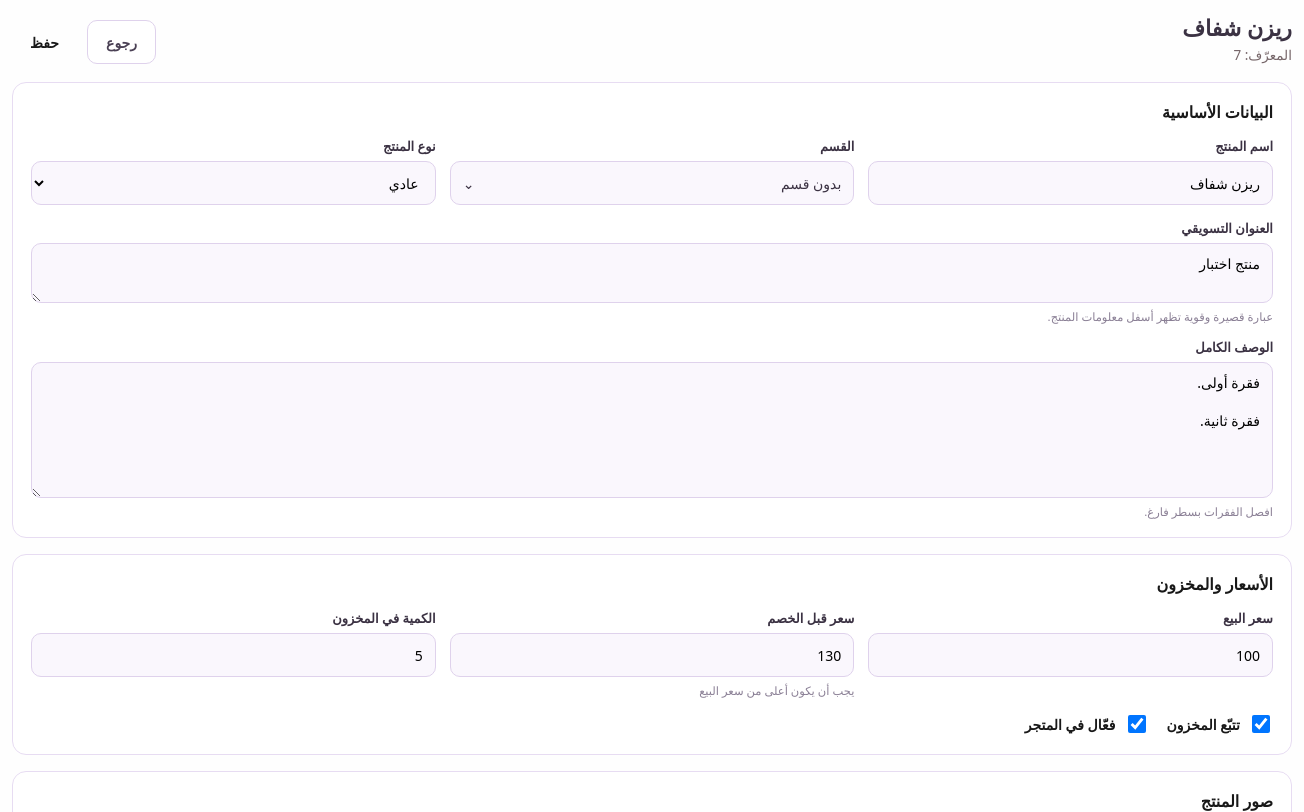
it: admin product routes › loads edit with the real id once and uses deterministic Back
Expected: the text "المعرّف: 7" is shown, x1=1234 y1=46 x2=1292 y2=64
Click the button "رجوع" at (122, 42), box x1=87 y1=20 x2=156 y2=64
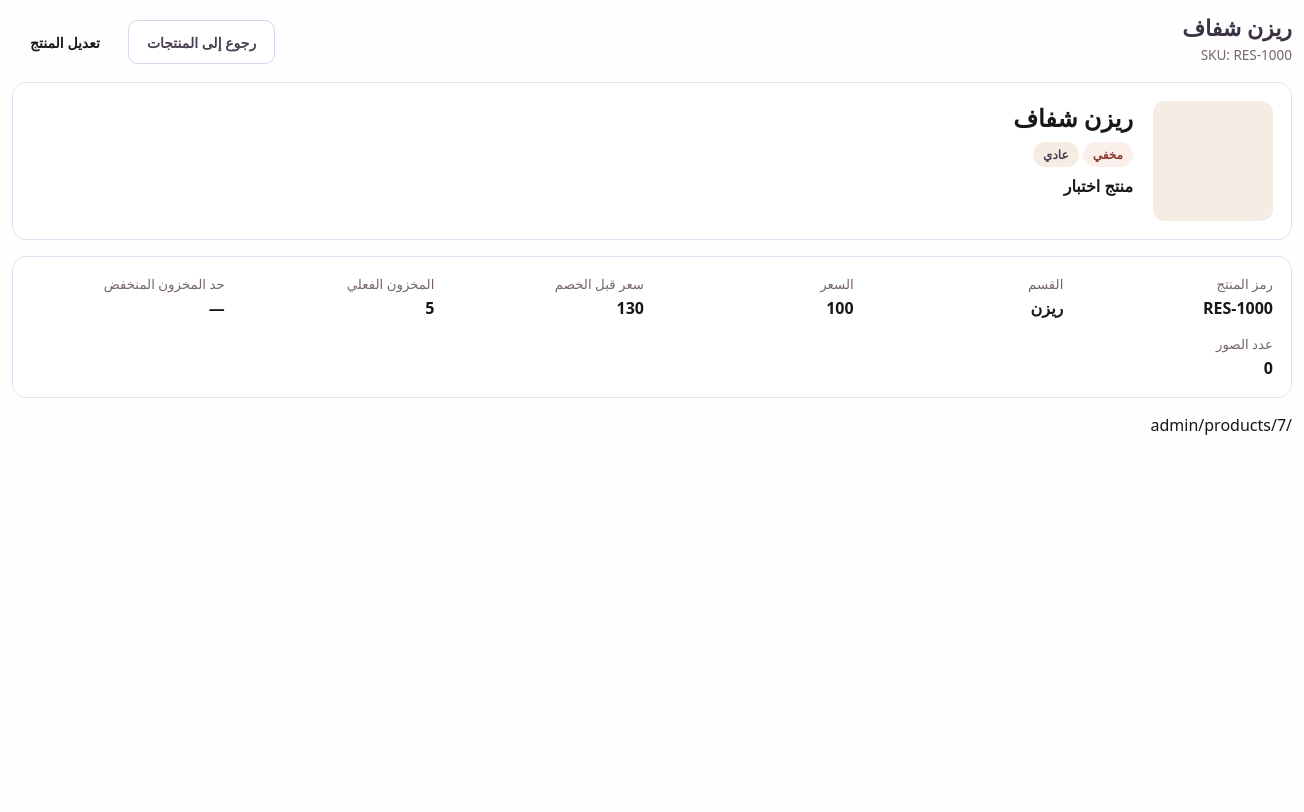
Expected: the text with test id "location" reads "/admin/products/7", x1=1150 y1=414 x2=1292 y2=436
